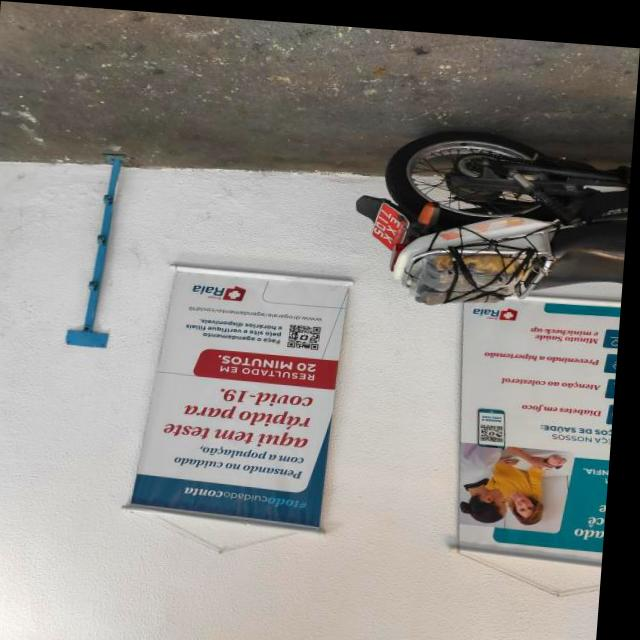qrcode: (292, 319, 326, 344), (486, 417, 510, 434)
